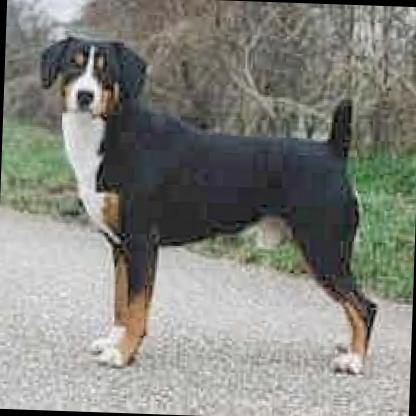EntleBucher: (26, 30, 388, 382)
